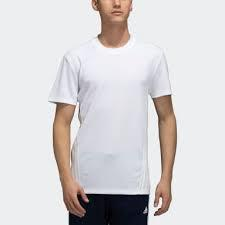Tshirt: (45, 33, 174, 195)
